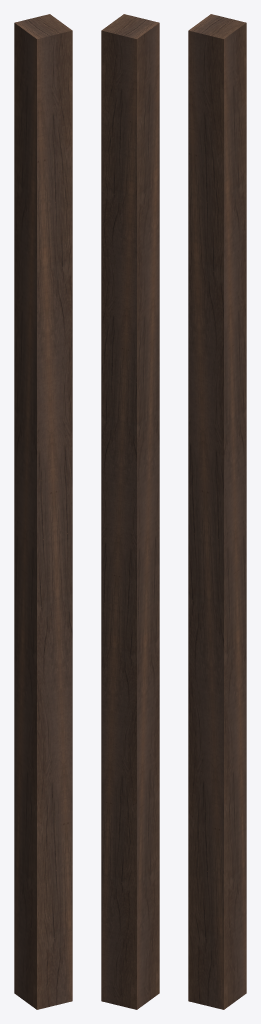
Rendered from yane_frame_4t_1f_pile.fbx.
3 renders of one model, left to right at view 1: azimuth 30°, elevation 25°; view 2: azimuth 150°, elevation 25°; view 3: azimuth 330°, elevation 25°, orthographic.
Parts seen in each view (by area): view 1: yane_frame_4t_1f_pile; view 2: yane_frame_4t_1f_pile; view 3: yane_frame_4t_1f_pile.
Part boxes in pixels (x1,y1,x2,y2): yane_frame_4t_1f_pile: (14, 14, 72, 1009); yane_frame_4t_1f_pile: (101, 14, 159, 1009); yane_frame_4t_1f_pile: (188, 14, 246, 1009).
Size of the model in its own units: 18.5 by 483 by 20.4.
